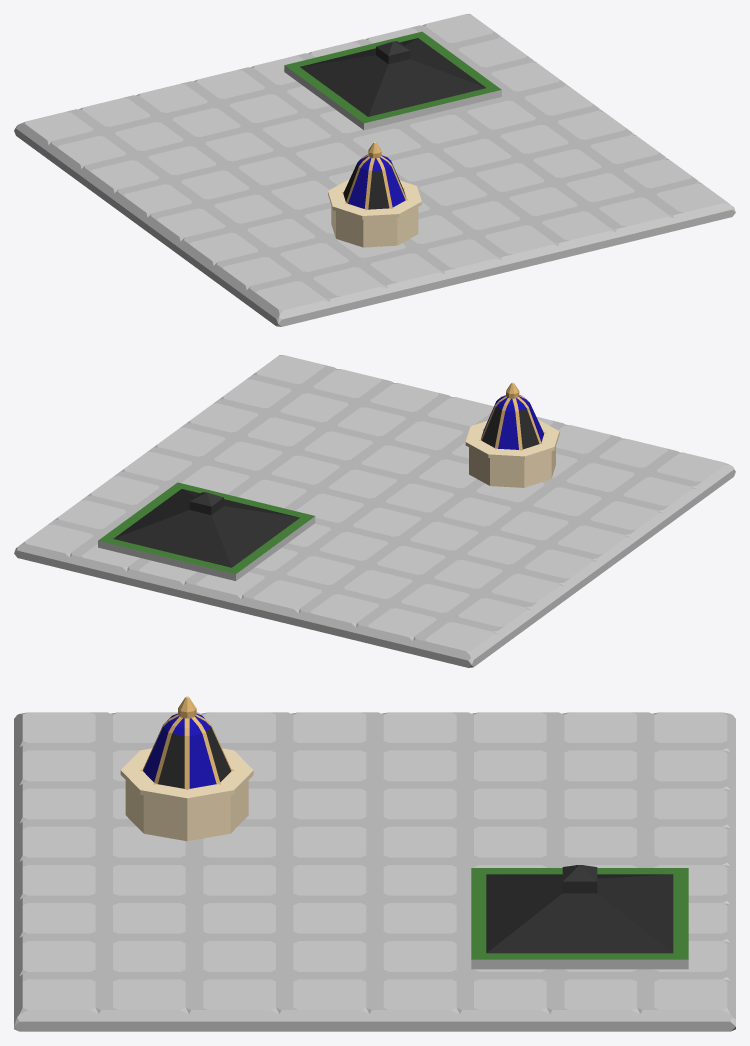
The model's file is mavzoley.gltf.
3 renders of one model, top to bottom at view 1: azimuth 30°, elevation 25°; view 2: azimuth 150°, elevation 25°; view 3: azimuth 270°, elevation 25°, orthographic. The views are drawn at different scales.
Visible parts, largest first — view 1: Plane, Plane.001, Cylinder; view 2: Plane, Plane.001, Cylinder; view 3: Plane, Plane.001, Cylinder.
Boxes of the visible parts, <box> form: Plane: <box>14,14,735,326</box>; Plane.001: <box>284,31,501,130</box>; Cylinder: <box>328,142,421,247</box>; Plane: <box>14,355,735,667</box>; Plane.001: <box>98,482,315,580</box>; Cylinder: <box>465,382,559,487</box>; Plane: <box>14,712,735,1031</box>; Plane.001: <box>471,865,688,969</box>; Cylinder: <box>120,696,253,841</box>.
Bounding box in the file's own units: 34.02 × 7.08 × 34.02.
